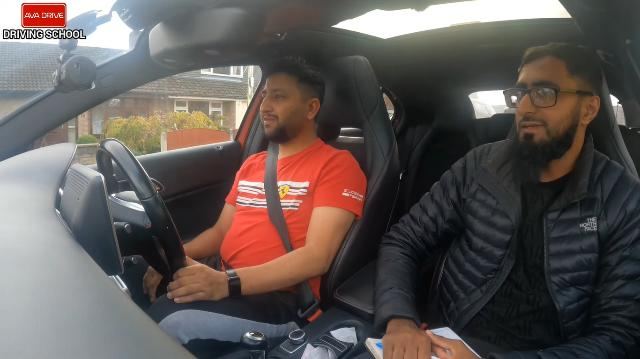no seatbelt: (428, 158, 639, 359)
seatbelt: (264, 140, 322, 322)
